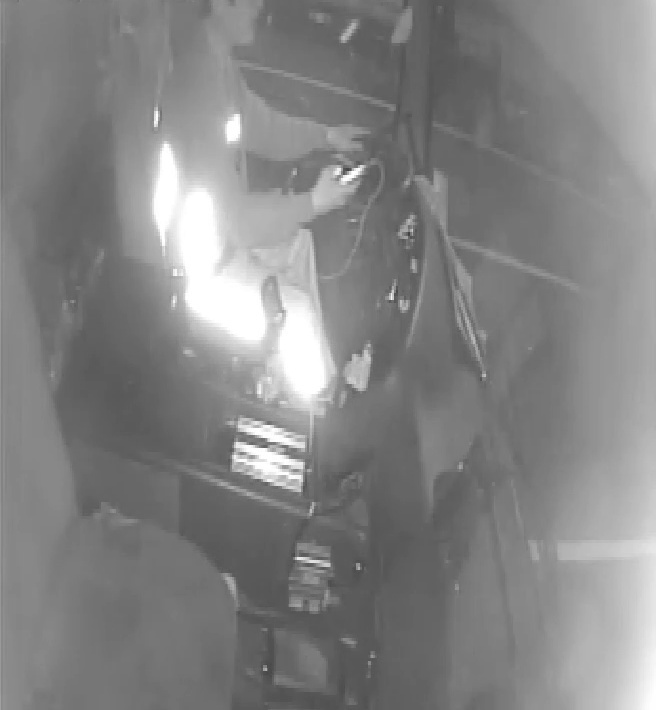cellphone: (326, 162, 373, 187)
